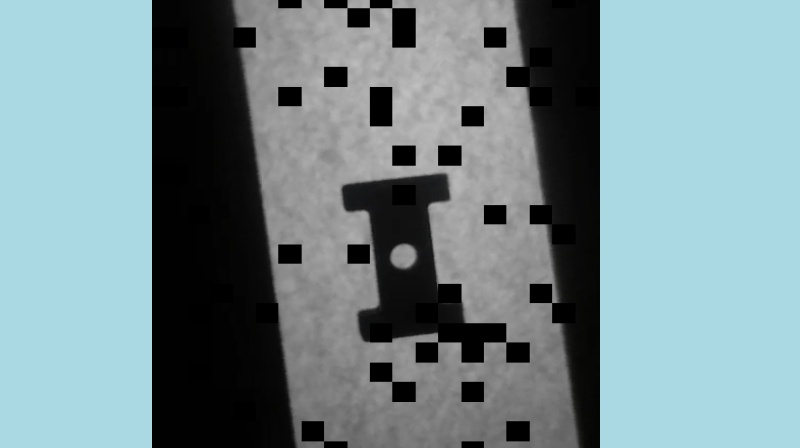O002: (338, 168, 467, 344)
